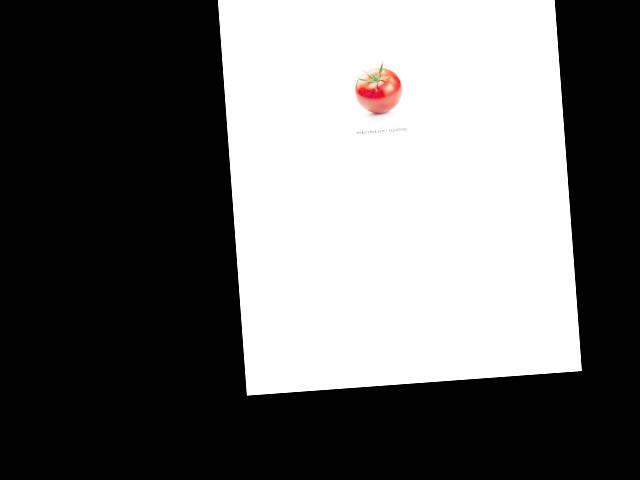tomato: (354, 66, 403, 114)
